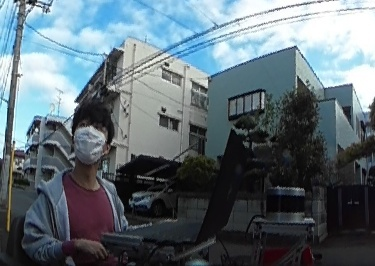person: (36, 100, 130, 264)
